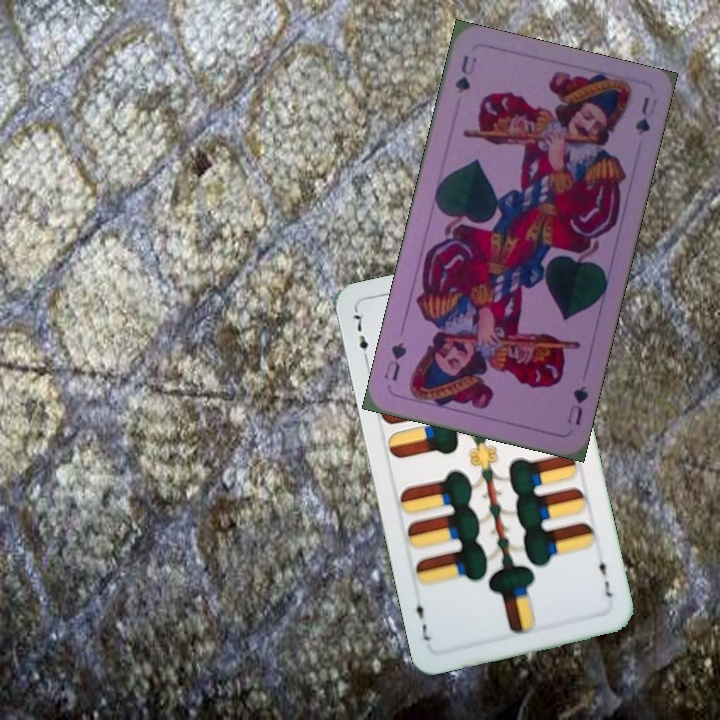E7: (348, 307, 372, 366), (595, 550, 615, 600)
GU: (563, 381, 591, 428), (451, 51, 479, 96)
